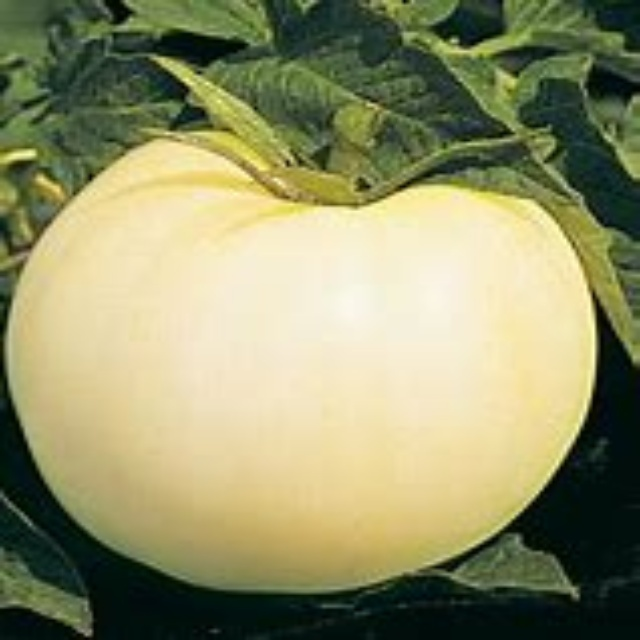tomato: (10, 114, 602, 593)
